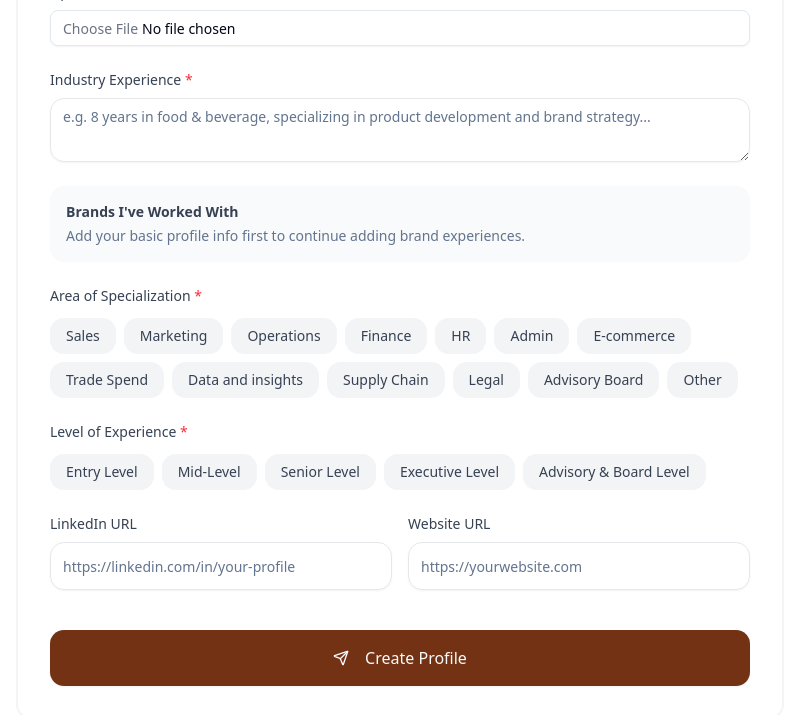
Scenario: TalentOnboarding Component › Form Validation › should show validation errors on empty submit
The image size is (801, 715).
(page scrolled)
What coordinates should you click on to do the following:
click the button "Create Profile"
I would click on:
 (400, 658)
Its box is [50,630,750,686].
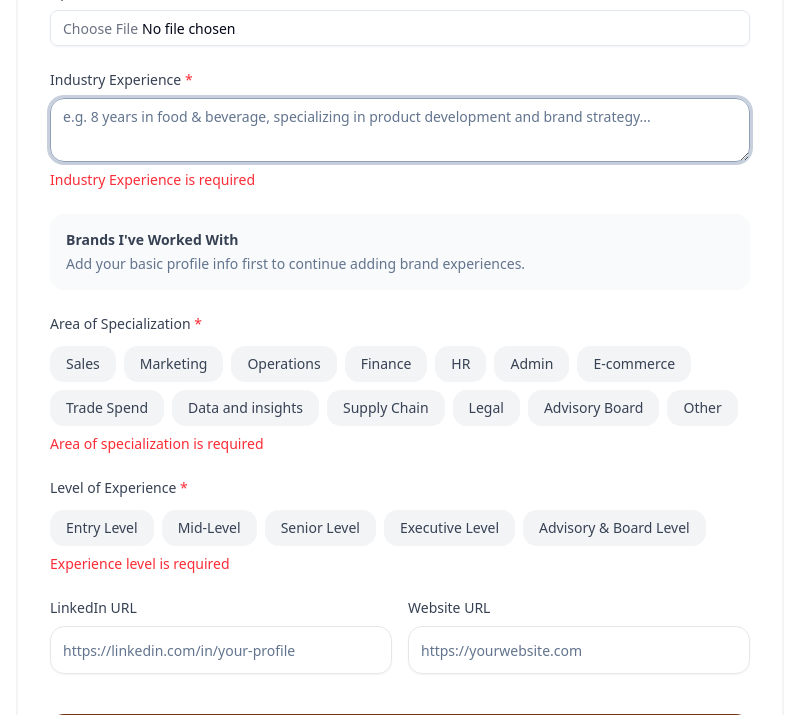
expect the text "Industry Experience is required" is shown: met, box [50,170,255,189]
